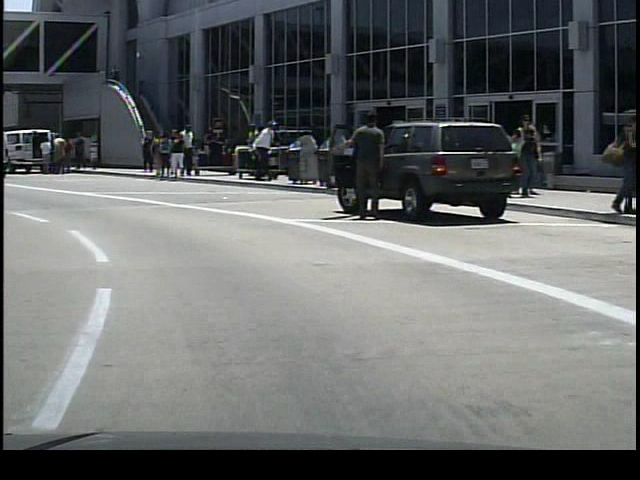person: (339, 110, 386, 224), (509, 109, 546, 207), (248, 116, 276, 184), (164, 130, 186, 180), (67, 129, 89, 176), (179, 123, 196, 180), (136, 128, 157, 173), (50, 131, 67, 178), (37, 136, 55, 177)
